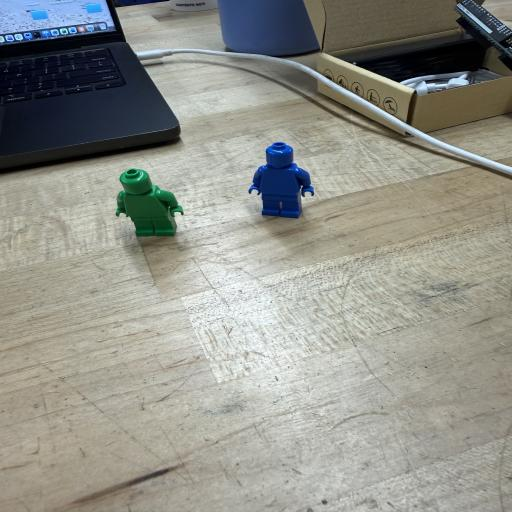blue-minifig: (248, 142, 314, 218)
green-minifig: (116, 168, 183, 236)
